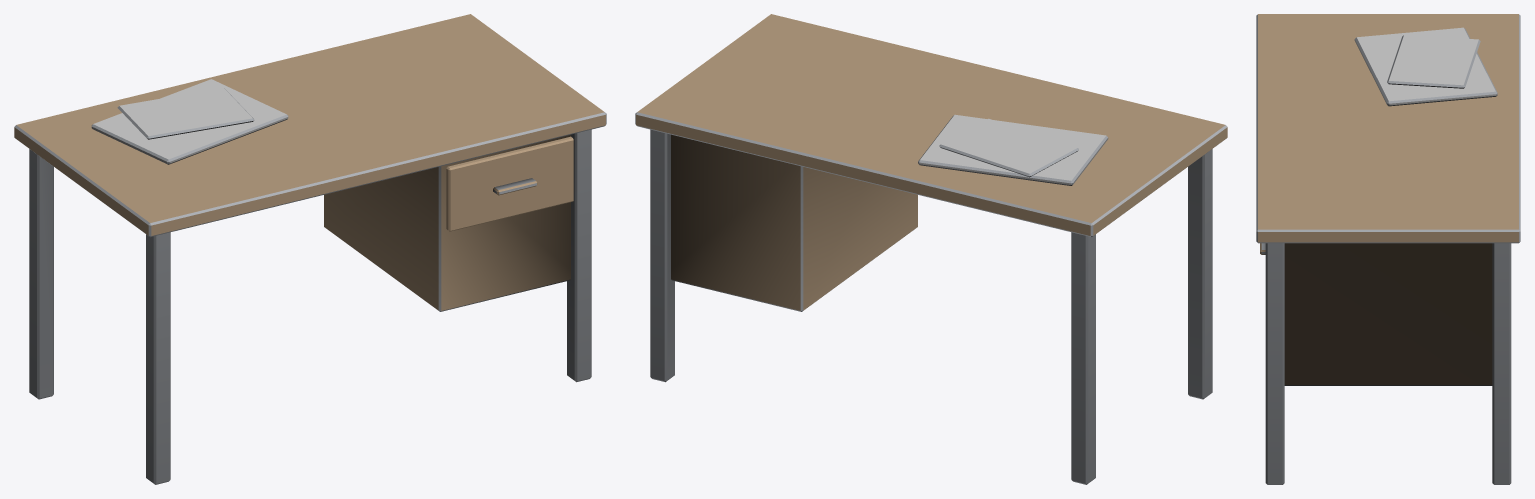
Rendered from desk.glb.
The picture shows the model from 3 angles, left to right: view 1: azimuth 30°, elevation 25°; view 2: azimuth 150°, elevation 25°; view 3: azimuth 270°, elevation 25°; orthographic projection. The views are drawn at different scales.
Visible parts, largest first — view 1: desk, desk_lid; view 2: desk; view 3: desk.
Boxes of the visible parts, x1,y1,x2,y2 form: desk: [14, 14, 606, 484]; desk_lid: [446, 136, 573, 231]; desk: [635, 14, 1227, 484]; desk: [1256, 14, 1520, 484].
Bounding box in the file's own units: 1.36 × 0.8 × 0.7.
